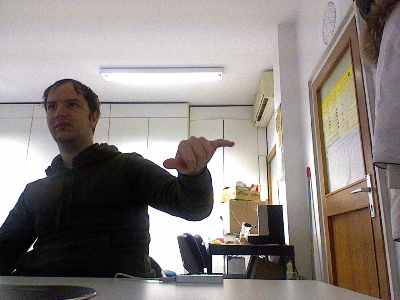六六六: (161, 136, 235, 175)
